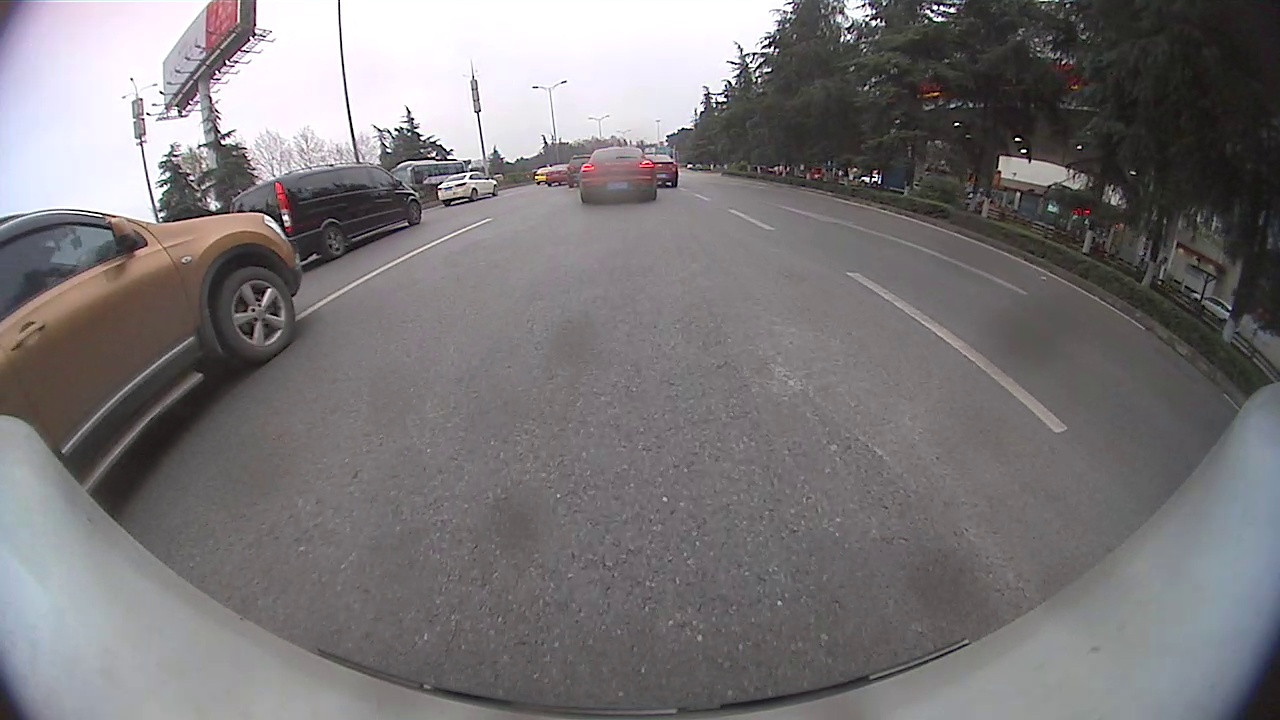car: (2, 209, 300, 491), (230, 164, 420, 263), (581, 148, 660, 206), (438, 168, 498, 203), (649, 156, 680, 192)
front: (212, 265, 297, 365), (406, 200, 423, 227), (492, 185, 499, 197)
rear: (318, 224, 349, 261), (468, 189, 479, 202)
